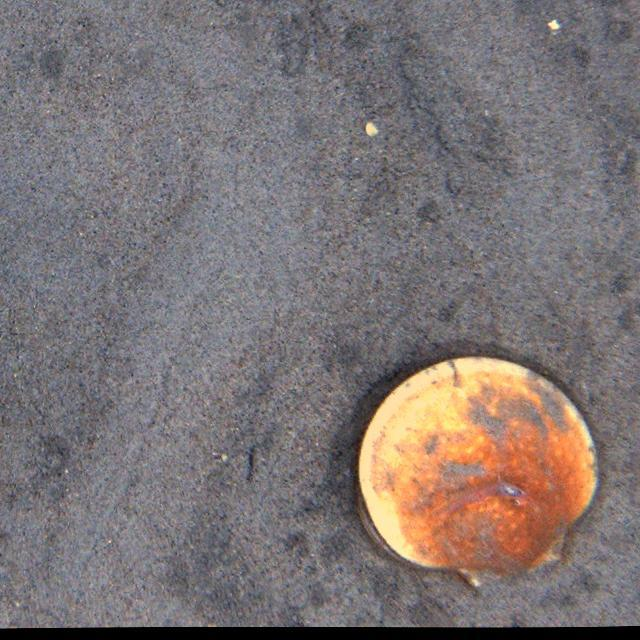scallop: (349, 362, 594, 592)
